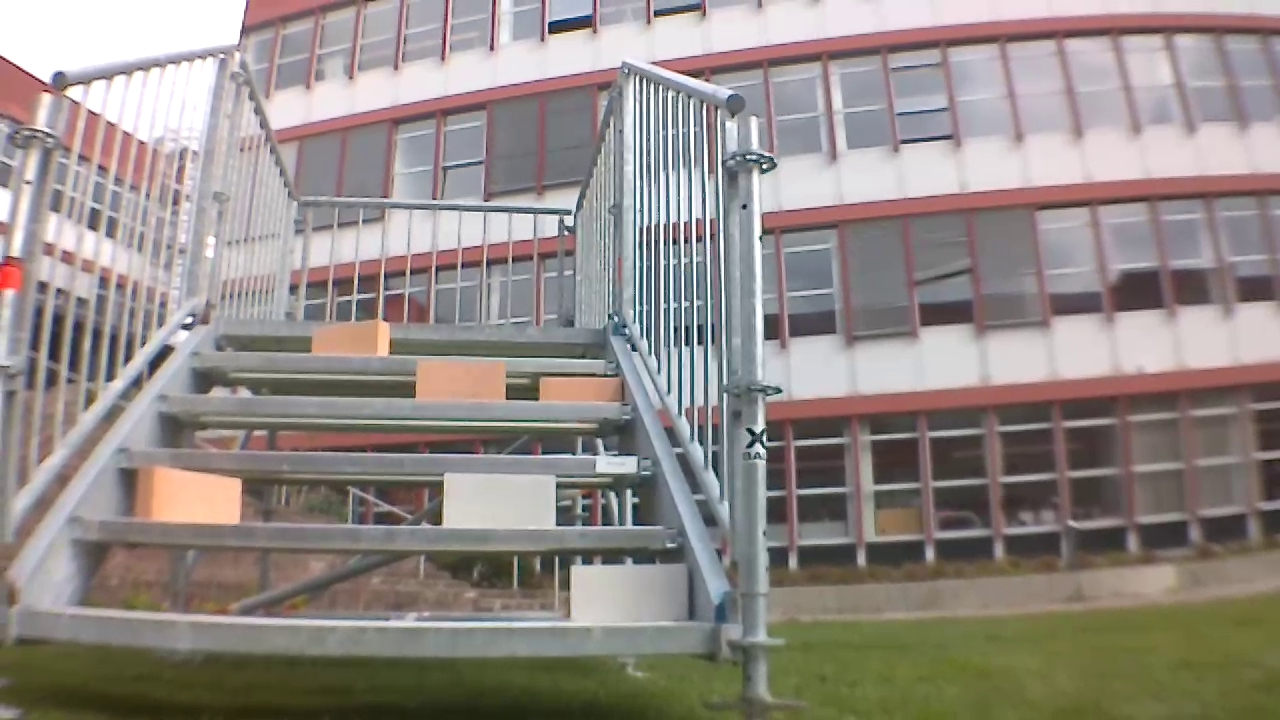brick: (570, 563, 687, 620), (134, 468, 239, 524), (445, 474, 553, 526), (417, 359, 505, 400), (315, 321, 390, 356), (541, 378, 620, 402)
edge: (21, 609, 713, 651), (74, 516, 685, 549), (118, 447, 654, 474), (157, 392, 635, 419), (219, 317, 605, 343), (188, 351, 617, 373)
stairs: (7, 43, 782, 713)
steps: (11, 314, 717, 657)
